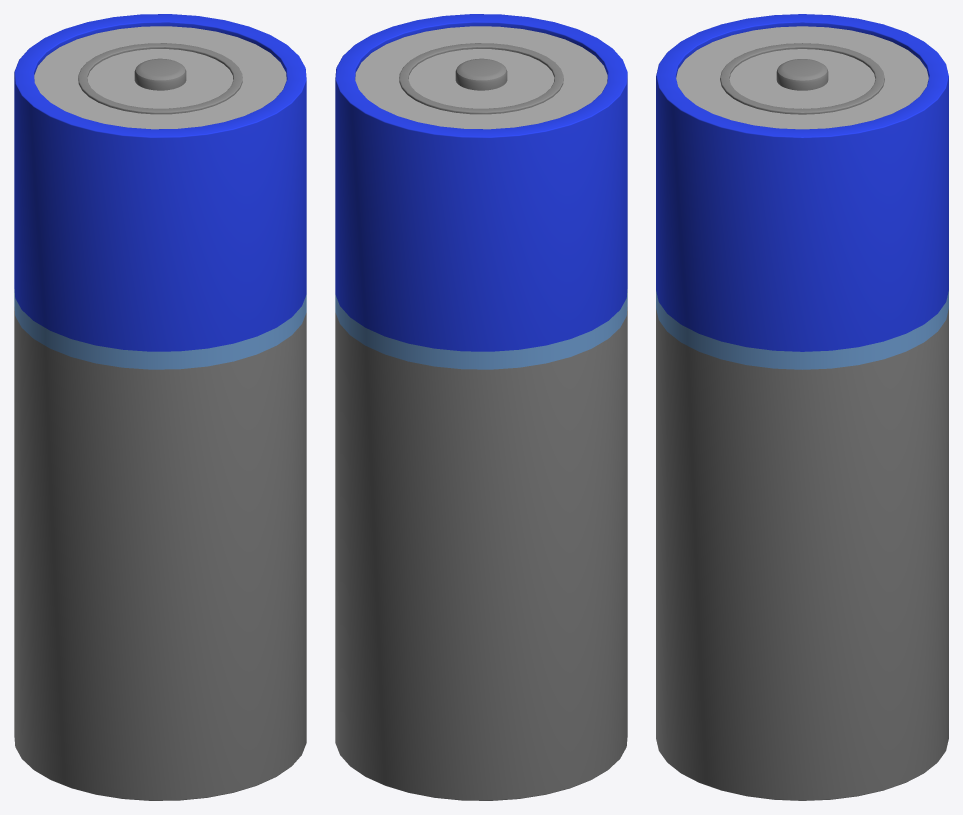
File: battery.fbx
3 renders of one model, left to right at view 1: azimuth 30°, elevation 25°; view 2: azimuth 150°, elevation 25°; view 3: azimuth 270°, elevation 25°, orthographic.
Visible parts, largest first — view 1: Cylinder; view 2: Cylinder; view 3: Cylinder.
Boxes of the visible parts, bbox=[...] form: Cylinder: bbox=[14, 14, 306, 800]; Cylinder: bbox=[335, 14, 627, 800]; Cylinder: bbox=[656, 14, 948, 800].
Size of the model in its own units: 80 by 202 by 80.
